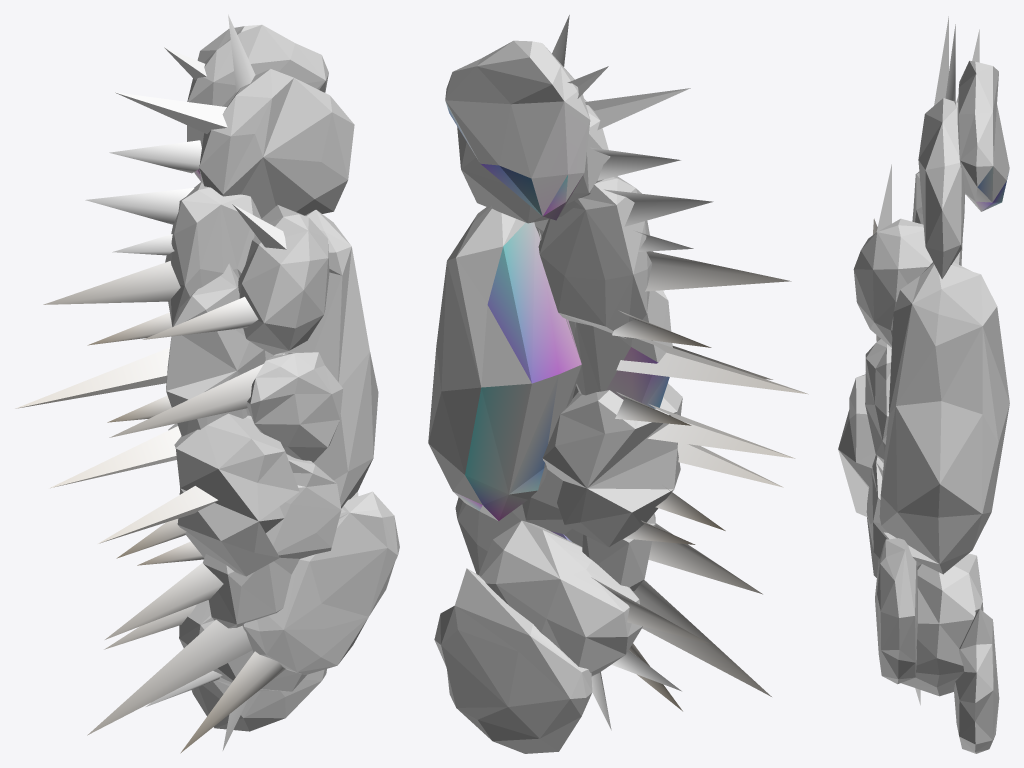
The model's file is Pinches en Rocas.FBX.
3 views of the same model, side by side, from view 1: azimuth 30°, elevation 25°; view 2: azimuth 150°, elevation 25°; view 3: azimuth 270°, elevation 25° (orthographic). The views are drawn at different scales.
Parts seen in each view (by area): view 1: Pinches_En_Rocas; view 2: Pinches_En_Rocas; view 3: Pinches_En_Rocas.
Part boxes in pixels (bbox=[...]): Pinches_En_Rocas: bbox=[15, 14, 399, 753]; Pinches_En_Rocas: bbox=[428, 15, 808, 753]; Pinches_En_Rocas: bbox=[838, 16, 1009, 753].
Size of what is drawn, in the model's own units: 776 by 1477 by 325.
